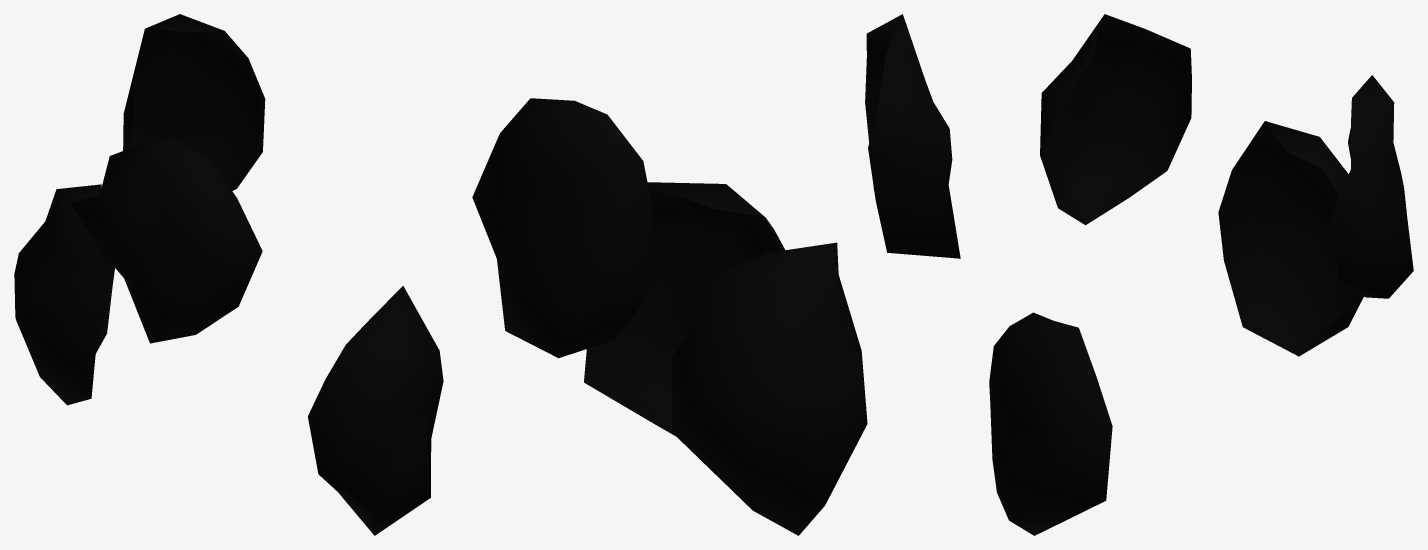
Rendered from SM_Foam.fbx.
3 renders of one model, left to right at view 1: azimuth 30°, elevation 25°; view 2: azimuth 150°, elevation 25°; view 3: azimuth 270°, elevation 25°, orthographic. The views are drawn at different scales.
Parts seen in each view (by area): view 1: SM_Foam; view 2: SM_Foam; view 3: SM_Foam.
Boxes of the visible parts, x1=… form: SM_Foam: x1=14, y1=14, x2=443, y2=535; SM_Foam: x1=472, y1=14, x2=960, y2=535; SM_Foam: x1=989, y1=14, x2=1413, y2=535.
Size of the model in its own units: 0.1519 by 0.1945 by 0.1719.
